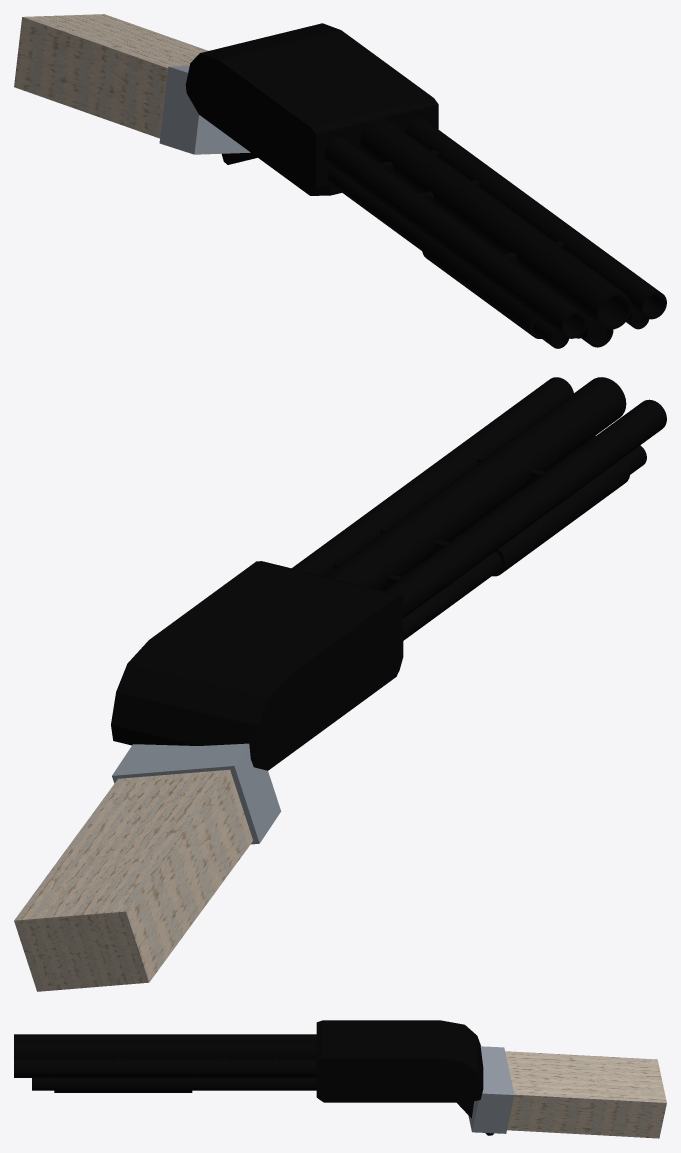
Rendered from shotgun.glb.
3 renders of one model, top to bottom at view 1: azimuth 30°, elevation 25°; view 2: azimuth 150°, elevation 25°; view 3: azimuth 270°, elevation 25°, orthographic. The views are drawn at different scales.
Parts seen in each view (by area): view 1: Cube.094, Cube.165, Cube.162; view 2: Cube.094, Cube.165, Cube.162; view 3: Cube.094, Cube.165, Cube.162.
Boxes of the visible parts, <box> form: Cube.094: <box>185,23,666,348</box>; Cube.165: <box>14,14,208,138</box>; Cube.162: <box>159,66,250,154</box>; Cube.094: <box>111,377,666,770</box>; Cube.165: <box>14,769,253,991</box>; Cube.162: <box>112,743,281,844</box>; Cube.094: <box>14,1020,493,1135</box>; Cube.165: <box>505,1051,666,1138</box>; Cube.162: <box>468,1046,514,1133</box>.
Size of the model in its own units: 0.3645 by 0.3429 by 1.97.
Materials: 3 (1 with a texture image).
